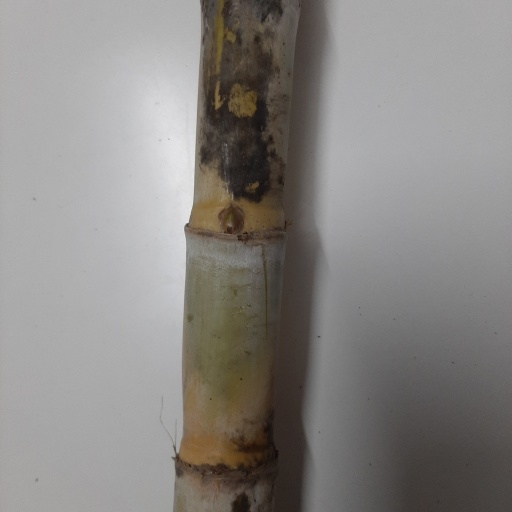Bud: (218, 208, 244, 234)
